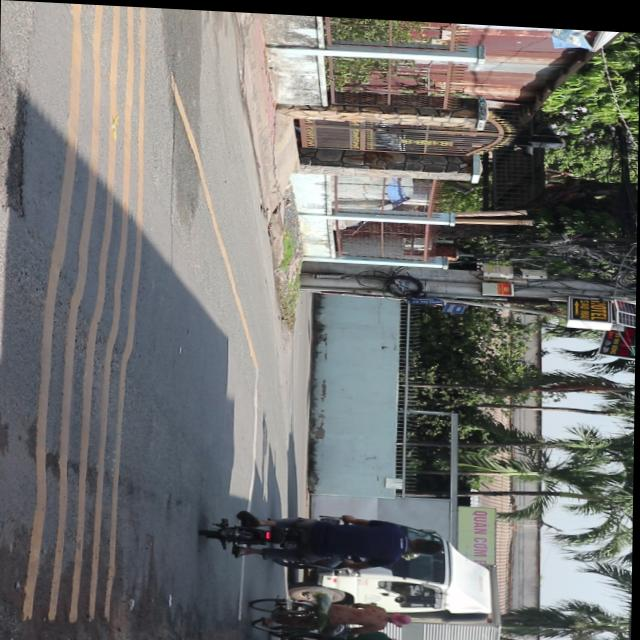licenseplate: (193, 499, 453, 573)
motorcyclist: (408, 531, 446, 552)
